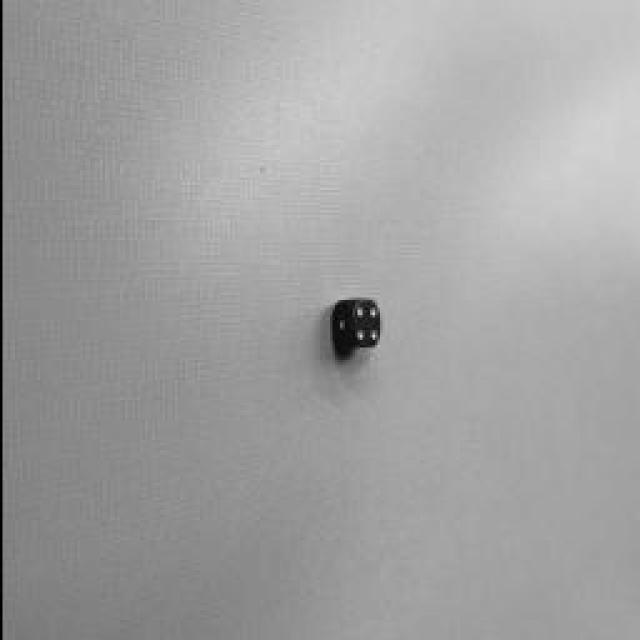dice_4: (350, 298, 380, 348)
